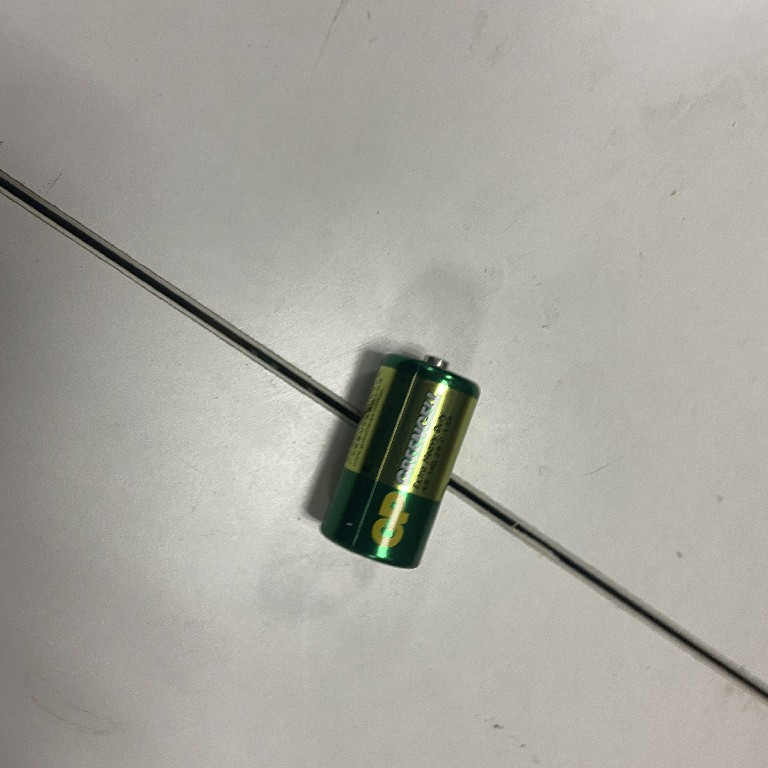charge: (311, 348, 483, 574)
